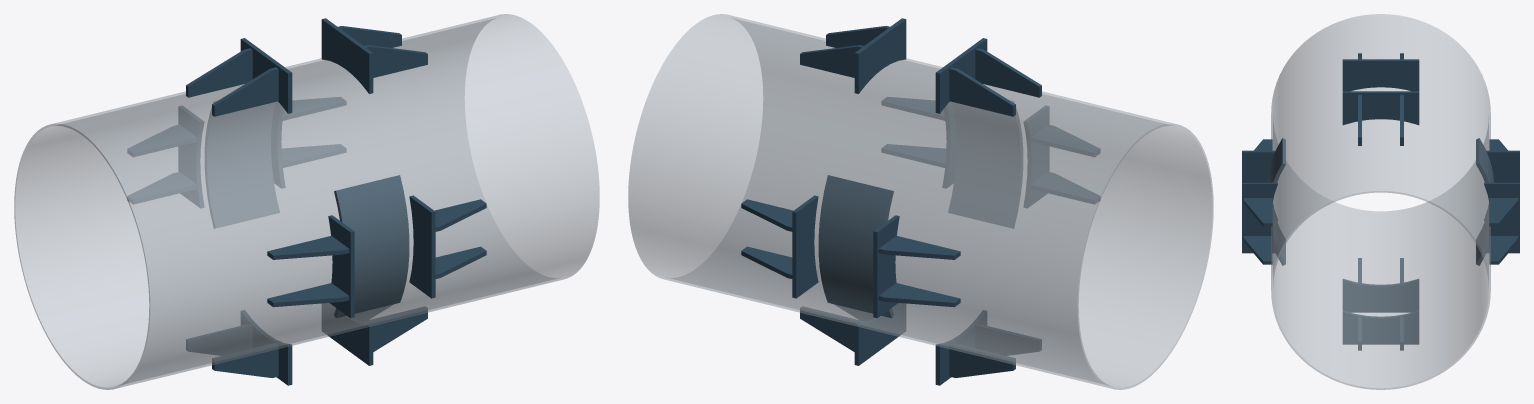
Rendered from TS-668.00.00-09-opora-dn920-ris1.glb.
3 views of the same model, side by side, from view 1: azimuth 30°, elevation 25°; view 2: azimuth 150°, elevation 25°; view 3: azimuth 270°, elevation 25° (orthographic). The views are drawn at different scales.
Visible parts, largest first — view 1: truba, bok_25, bok_26, upor_7, upor_1, upor_13, upor_10, upor_6, upor_5, upor_17, upor_22, upor_18 (+14 smaller); view 2: truba, bok_26, bok_25, upor_19, upor_1, upor_13, upor_22, upor_5, upor_6, upor_18, upor_10, upor_17 (+14 smaller); view 3: truba, upor_4, upor_16, upor_1, upor_13, upor_7, upor_19, upor_10, upor_22, bok_25, bok_26, upor_9 (+3 smaller).
Part boxes in pixels (x1,y1,x2,y2): truba: (14, 14, 599, 389); bok_25: (334, 175, 409, 318); bok_26: (205, 100, 279, 228); upor_7: (409, 195, 435, 298); upor_1: (321, 18, 373, 93); upor_13: (322, 303, 373, 365); upor_10: (328, 215, 354, 318); upor_6: (212, 67, 278, 116); upor_5: (186, 48, 252, 97); upor_17: (212, 343, 278, 377); upor_22: (178, 106, 203, 207); upor_18: (186, 324, 252, 355); truba: (628, 14, 1213, 389); bok_26: (818, 175, 893, 318); bok_25: (948, 100, 1022, 228); upor_19: (792, 195, 818, 298); upor_1: (854, 18, 906, 93); upor_13: (854, 303, 905, 365); upor_22: (873, 215, 899, 318); upor_5: (949, 67, 1015, 116); upor_6: (975, 48, 1041, 97); upor_18: (949, 343, 1015, 377); upor_10: (1024, 106, 1049, 207); upor_17: (975, 324, 1041, 355); truba: (1271, 14, 1490, 389); upor_4: (1342, 59, 1419, 91); upor_16: (1342, 279, 1419, 312); upor_1: (1342, 91, 1419, 125); upor_13: (1342, 310, 1419, 344); upor_7: (1242, 182, 1277, 253); upor_19: (1484, 182, 1519, 253); upor_10: (1242, 150, 1277, 220); upor_22: (1484, 150, 1519, 220); bok_25: (1267, 138, 1285, 265); bok_26: (1476, 138, 1494, 265); upor_9: (1244, 236, 1272, 264).
Bounding box in the file's own units: 1752 × 1163 × 1163.
